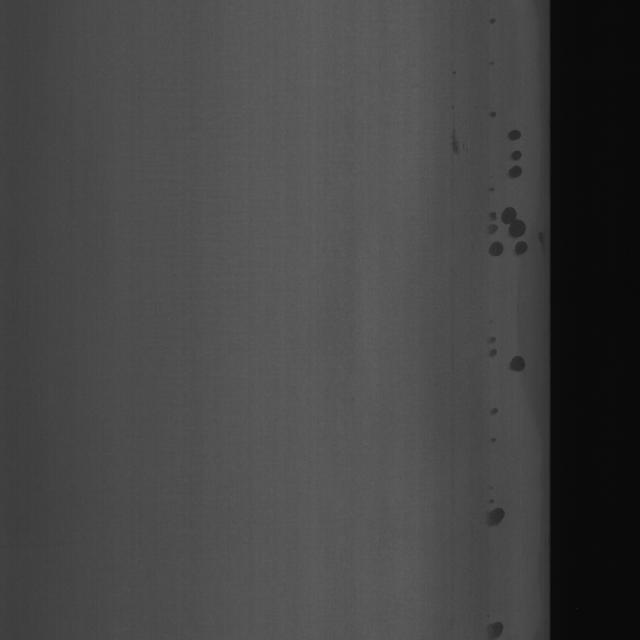welding_line: (484, 184, 540, 270), (479, 315, 503, 446), (502, 109, 523, 187), (483, 499, 507, 540), (483, 608, 503, 638), (508, 354, 526, 386)
